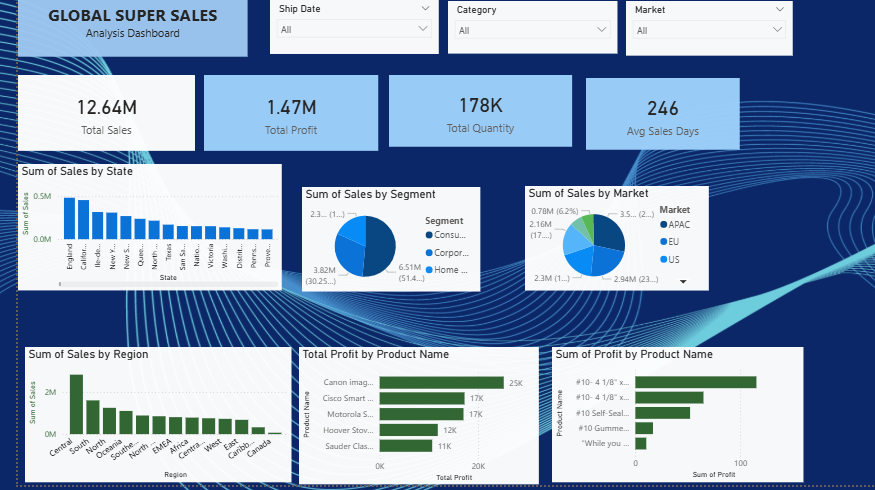

What the dashboard file says about the page in this screenshot:
{"tool":"powerbi","page":{"name":"Page 1","canvas":[1280,720],"ordinal":0},"visuals":[{"type":"card","fields":{"Values":["Global-Superstore.Total Profit"]},"box":[272.5,120,255,111.2],"z":0},{"type":"card","fields":{"Values":["Global-Superstore.Total Sales"]},"box":[0,120,258.8,111.2],"z":1000},{"type":"card","fields":{"Values":["Global-Superstore.Total Quantity"]},"box":[542.5,120,267.5,105],"z":2000},{"type":"clusteredColumnChart","fields":{"Y":["Sum(Global-Superstore.Sales)"],"Category":["Global-Superstore.State"]},"box":[0,250,386.2,185],"z":3000},{"type":"clusteredColumnChart","fields":{"Category":["Global-Superstore.Region"],"Y":["Sum(Global-Superstore.Sales)"]},"box":[10,518.8,390,197.5],"z":4000},{"type":"pieChart","fields":{"Y":["Sum(Global-Superstore.Sales)"],"Category":["Global-Superstore.Market"]},"box":[742.5,282.5,268.8,152.5],"z":5000},{"type":"pieChart","fields":{"Y":["Sum(Global-Superstore.Sales)"],"Category":["Global-Superstore.Segment"]},"box":[415,283.8,261.2,152.5],"z":6000},{"type":"barChart","fields":{"Category":["Global-Superstore.Product Name"],"Y":["Global-Superstore.Total Profit"]},"box":[411.2,518.8,351.2,201.2],"z":7000},{"type":"barChart","fields":{"Y":["Sum(Global-Superstore.Profit)"],"Category":["Global-Superstore.Product Name"]},"box":[781.2,518.8,367.5,197.5],"z":8000},{"type":"card","fields":{"Values":["Global-Superstore.Avg Delivery Days"]},"box":[831.2,123.8,225,105],"z":9000},{"type":"textbox","box":[0,10,336.2,82.5],"z":10000},{"type":"slicer","fields":{"Values":["Global-Superstore.Ship Date"]},"box":[368.9,10,246.7,78.9],"z":11000},{"type":"slicer","fields":{"Values":["Global-Superstore.Category"]},"box":[628.9,12.2,247.8,76.7],"z":12000},{"type":"slicer","fields":{"Values":["Global-Superstore.Market"]},"box":[890,12.2,244.4,80],"z":13000}]}

Visuals, with their boxes in screenshot pixels (x1, y1, x2, y2), scaled from the page's 1280x720 canvas onto the 875x490 screenshot:
card - Global-Superstore.Total Profit: crop(186, 82, 361, 157)
card - Global-Superstore.Total Sales: crop(0, 82, 177, 157)
card - Global-Superstore.Total Quantity: crop(371, 82, 554, 153)
clusteredColumnChart - Sum(Global-Superstore.Sales) x Global-Superstore.State: crop(0, 170, 264, 296)
clusteredColumnChart - Global-Superstore.Region x Sum(Global-Superstore.Sales): crop(7, 353, 273, 487)
pieChart - Sum(Global-Superstore.Sales) x Global-Superstore.Market: crop(508, 192, 691, 296)
pieChart - Sum(Global-Superstore.Sales) x Global-Superstore.Segment: crop(284, 193, 462, 297)
barChart - Global-Superstore.Product Name x Global-Superstore.Total Profit: crop(281, 353, 521, 489)
barChart - Sum(Global-Superstore.Profit) x Global-Superstore.Product Name: crop(534, 353, 785, 487)
card - Global-Superstore.Avg Delivery Days: crop(568, 84, 722, 156)
textbox: crop(0, 7, 230, 63)
slicer - Global-Superstore.Ship Date: crop(252, 7, 421, 61)
slicer - Global-Superstore.Category: crop(430, 8, 599, 61)
slicer - Global-Superstore.Market: crop(608, 8, 775, 63)
